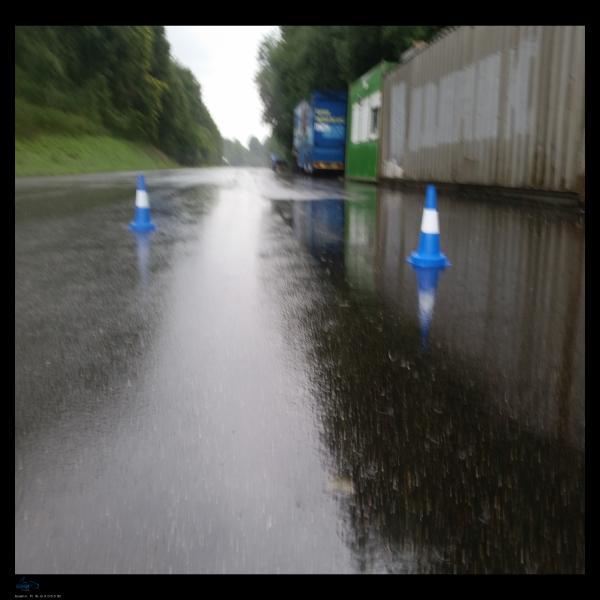blue_cone: (406, 185, 452, 268), (126, 174, 157, 231)
